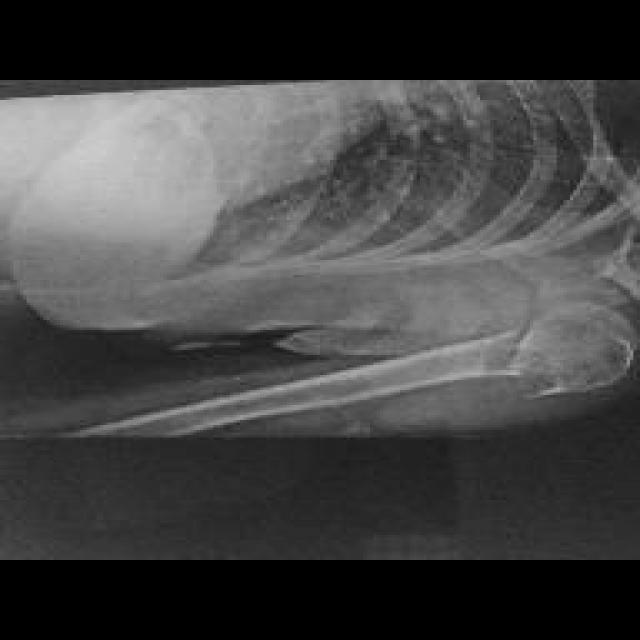bone-cancer: (510, 305, 637, 396)
